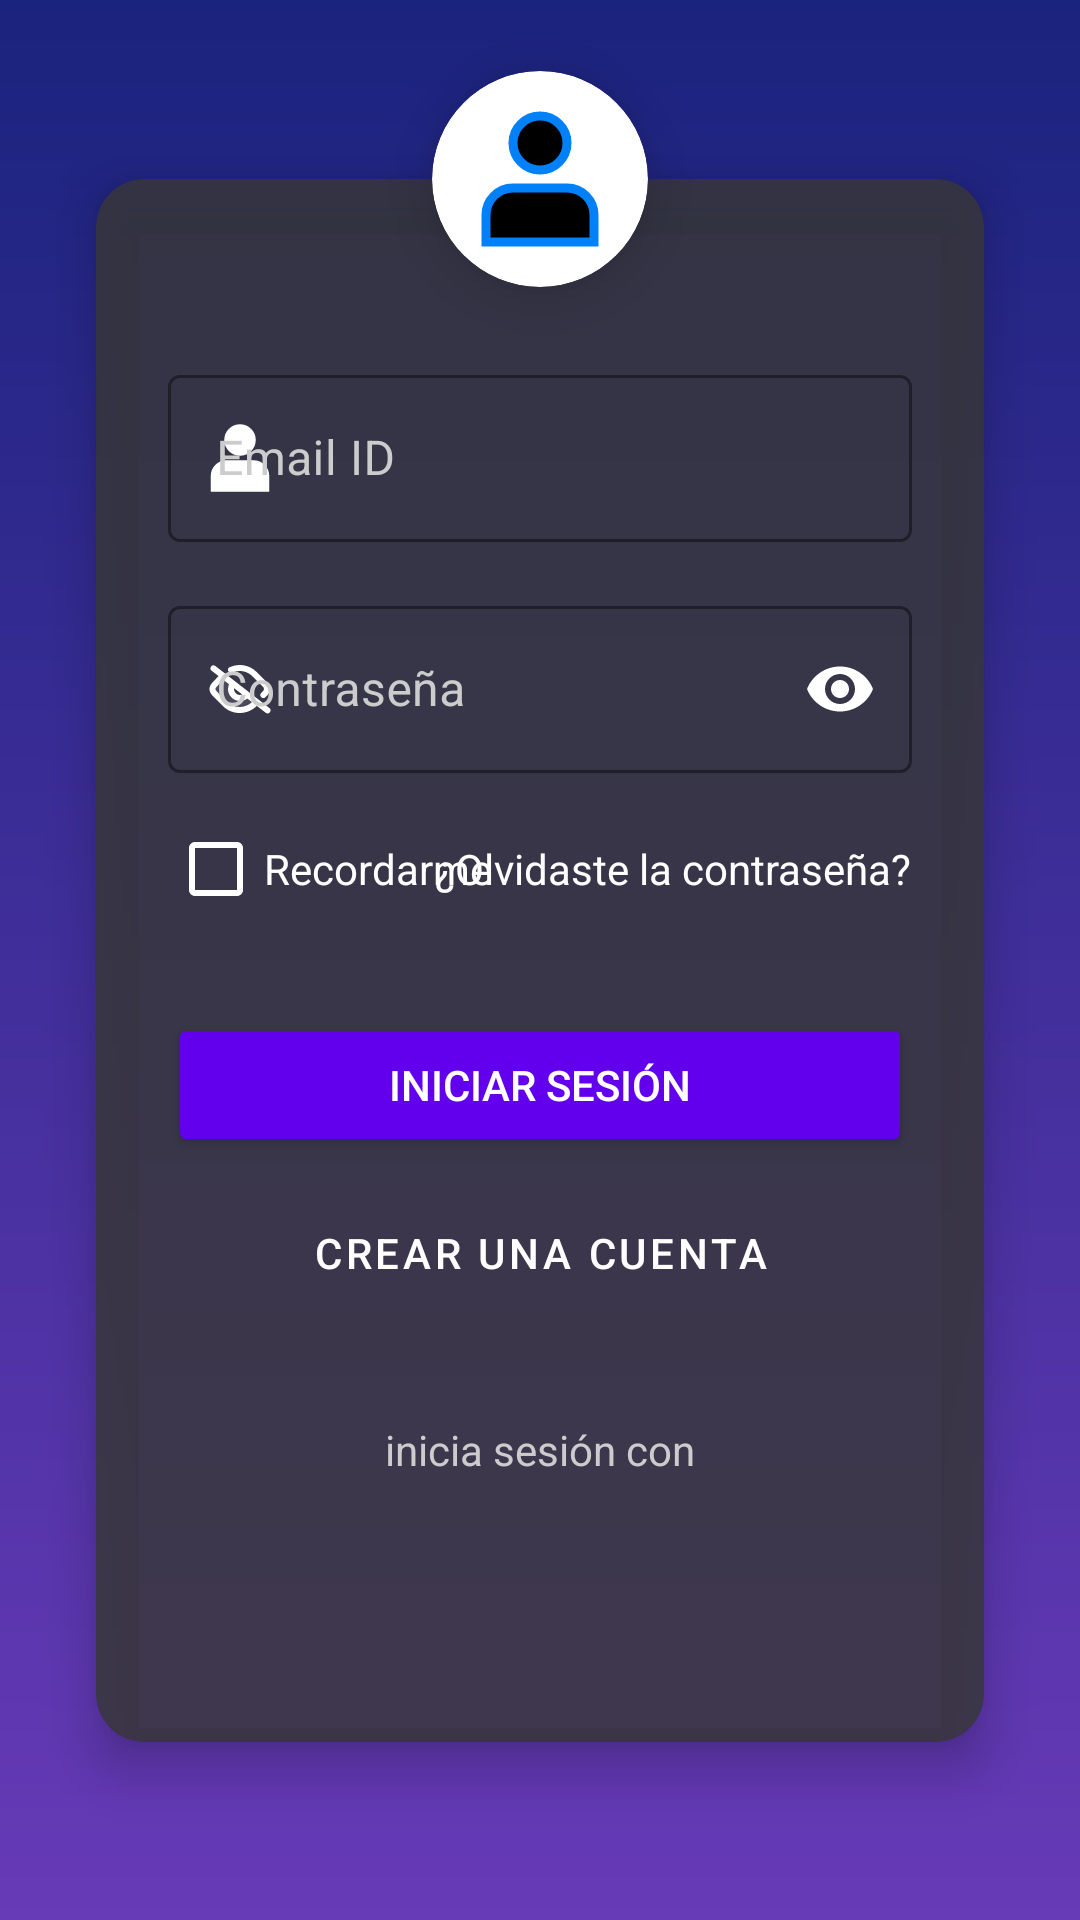

Where to tap for icons on this 1080×1920 app screen, as point (x, y):
Icono de usuario: point (540, 179)
